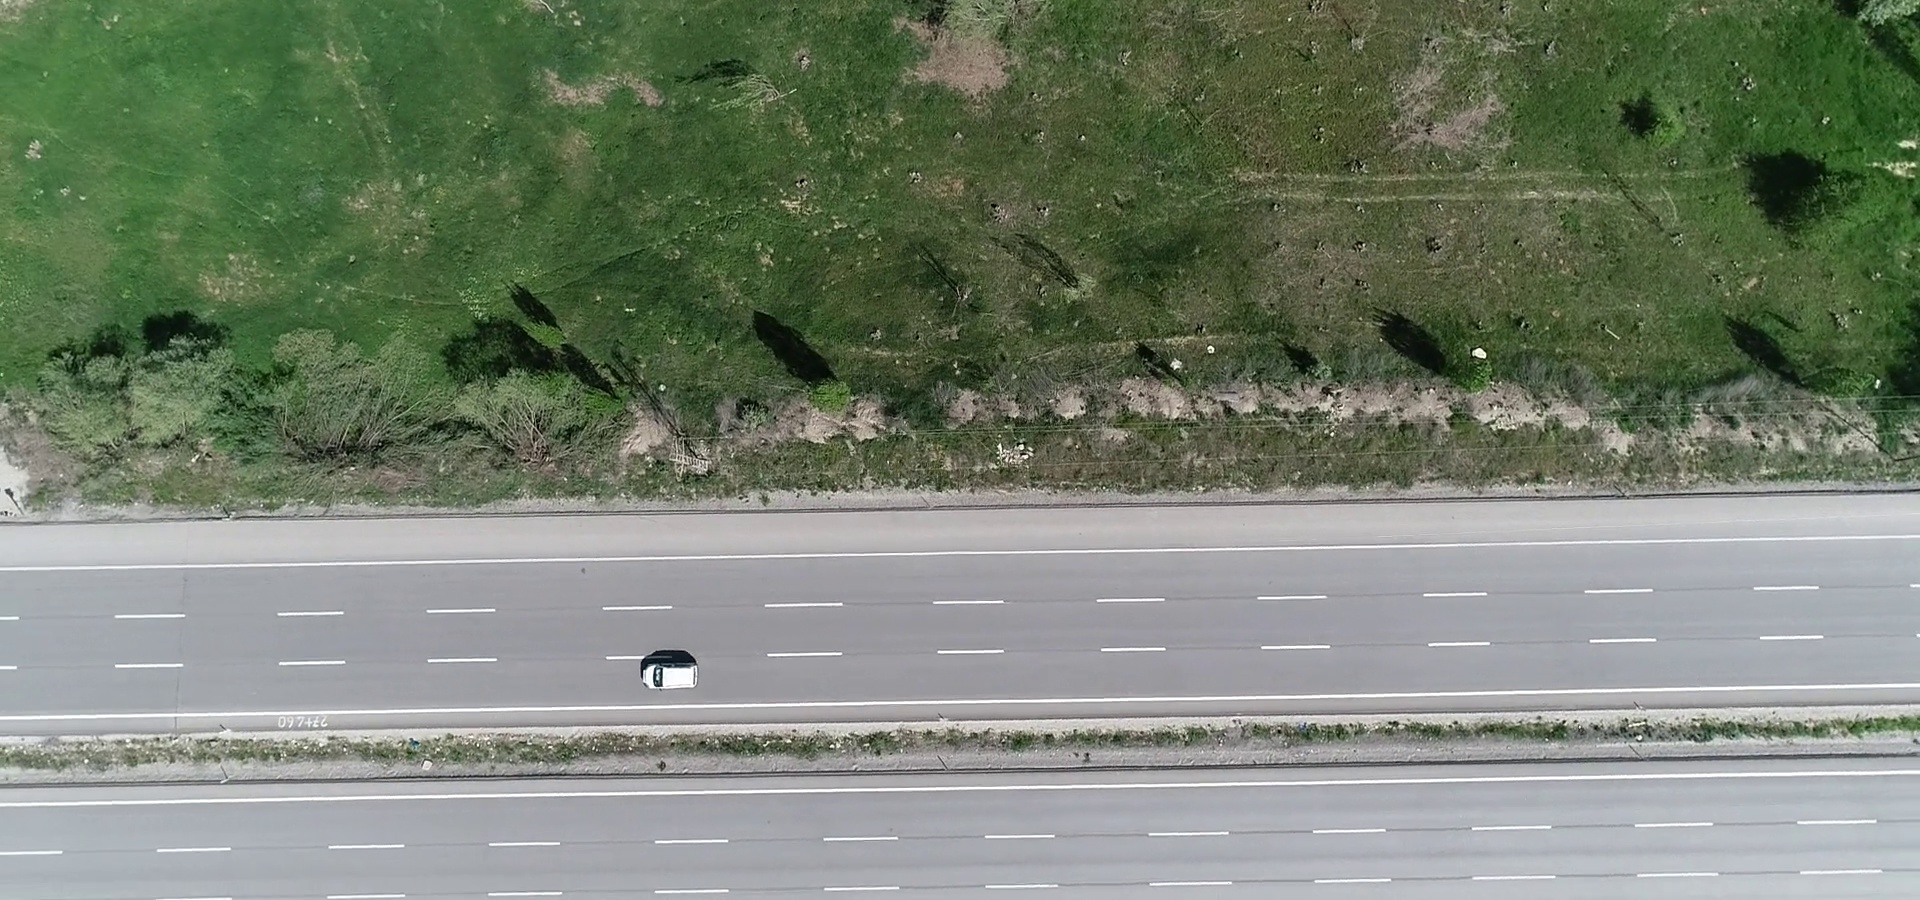arac: (639, 651, 700, 697)
